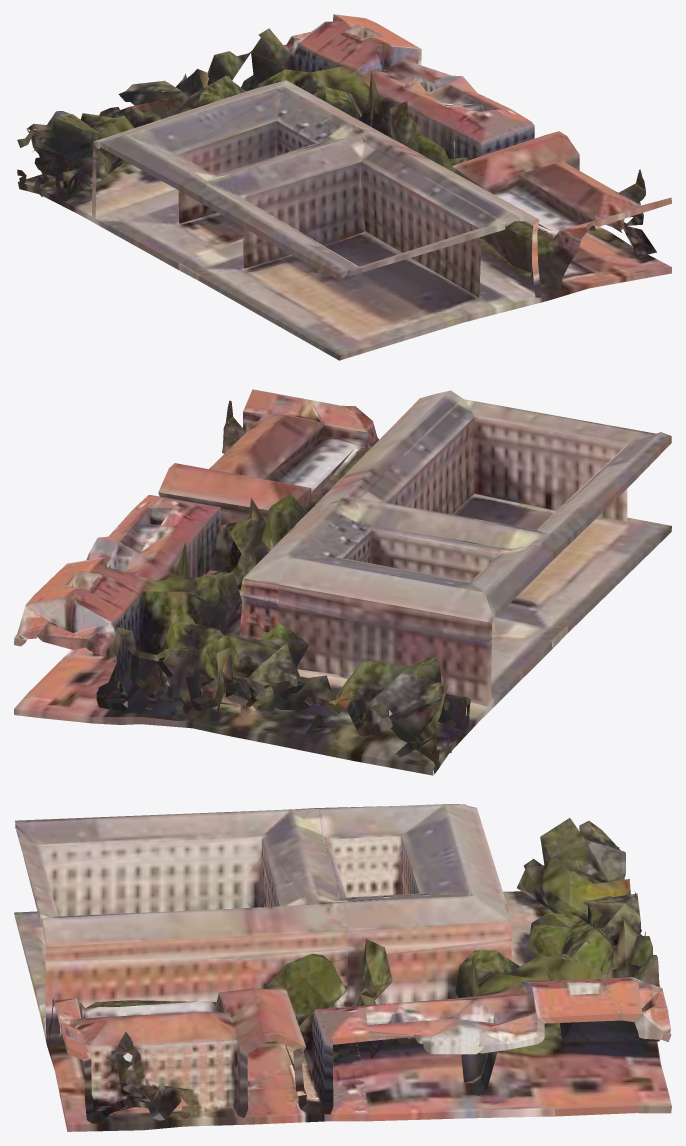
The picture shows the model from 3 angles, top to bottom: view 1: azimuth 30°, elevation 25°; view 2: azimuth 150°, elevation 25°; view 3: azimuth 270°, elevation 25°; orthographic projection. The views are drawn at different scales.
Parts seen in each view (by area): view 1: Mesh_0; view 2: Mesh_0; view 3: Mesh_0.
Part boxes in pixels (box(x1,y1,x2,y2)): Mesh_0: box(17, 14, 671, 360); Mesh_0: box(14, 389, 671, 775); Mesh_0: box(14, 804, 671, 1131).
Size of the model in its own units: 134 by 36.4 by 165.
Materials: 2 (2 with a texture image).
